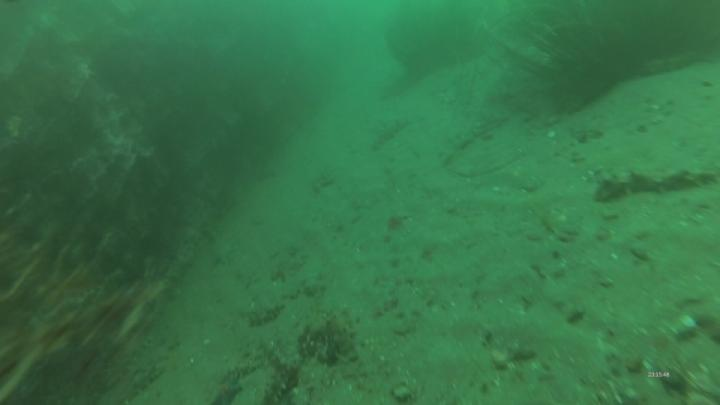holothurian: (587, 160, 719, 202), (325, 313, 362, 370), (260, 361, 300, 405)
